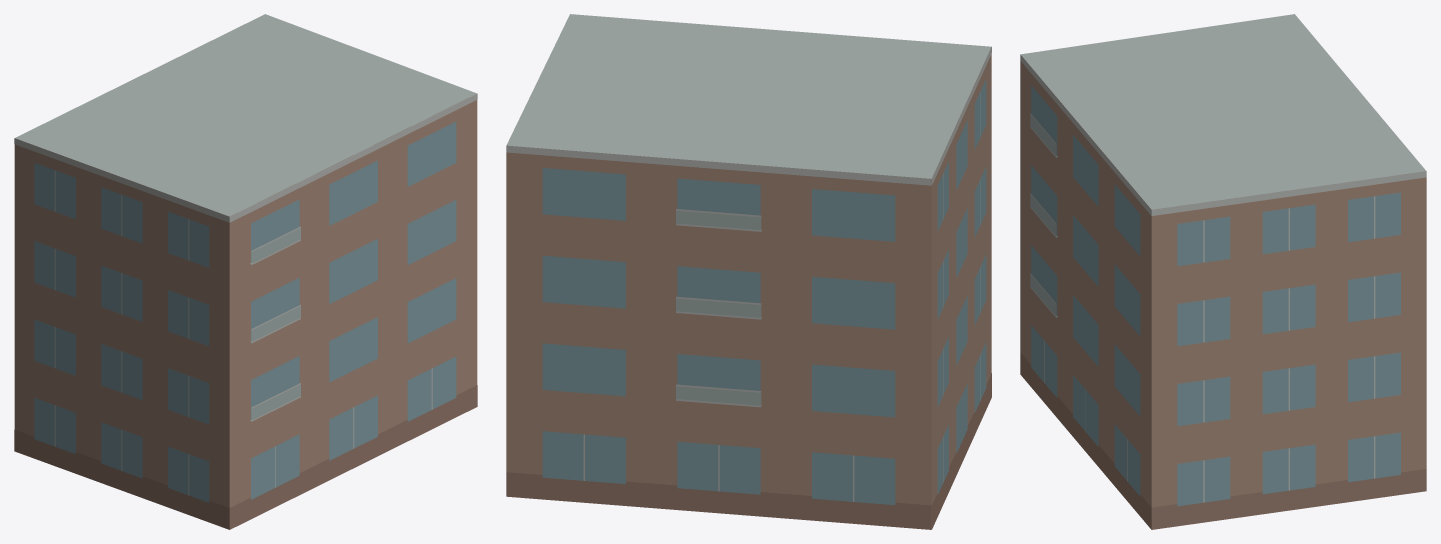
The model's file is survey-upis-32525687.glb.
3 views of the same model, side by side, from view 1: azimuth 30°, elevation 25°; view 2: azimuth 150°, elevation 25°; view 3: azimuth 270°, elevation 25° (orthographic). The views are drawn at different scales.
Parts seen in each view (by area): view 1: survey-upis-32525687.tmp; view 2: survey-upis-32525687.tmp; view 3: survey-upis-32525687.tmp.
Boxes of the visible parts, x1,y1,x2,y2 form: survey-upis-32525687.tmp: (14, 14, 477, 529); survey-upis-32525687.tmp: (506, 14, 991, 529); survey-upis-32525687.tmp: (1020, 14, 1426, 529).
Size of the model in its own units: 16.35 by 12.45 by 14.33.
